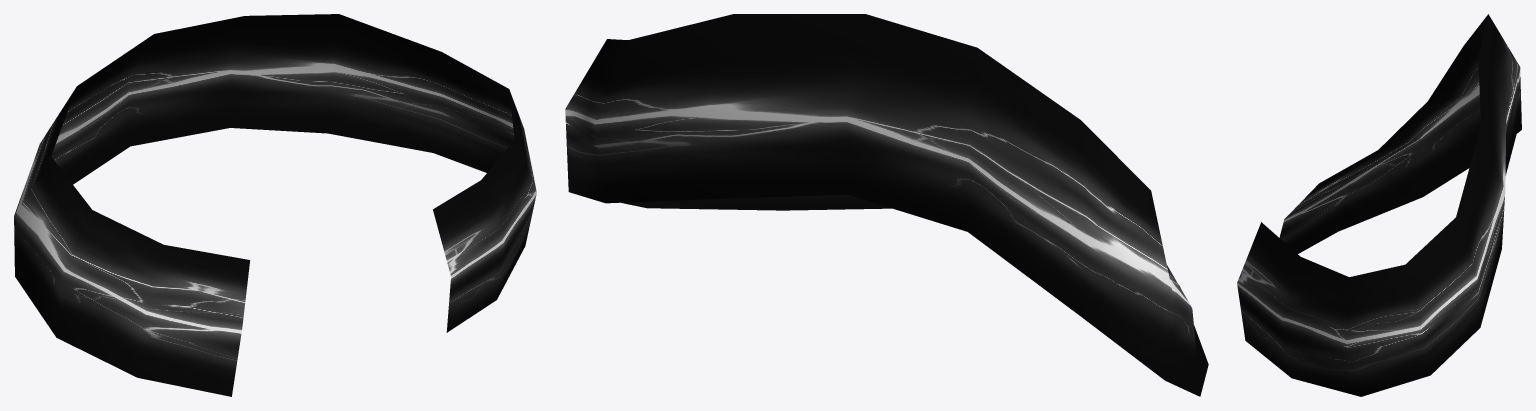
File: VertexPaintedLightningVFXMesh2.fbx
3 views of the same model, side by side, from view 1: azimuth 30°, elevation 25°; view 2: azimuth 150°, elevation 25°; view 3: azimuth 270°, elevation 25° (orthographic). The views are drawn at different scales.
Visible parts, largest first — view 1: VertexPaintedLightningVFXMesh2; view 2: VertexPaintedLightningVFXMesh2; view 3: VertexPaintedLightningVFXMesh2.
Boxes of the visible parts, x1,y1,x2,y2 form: VertexPaintedLightningVFXMesh2: (14,14,536,396); VertexPaintedLightningVFXMesh2: (565,14,1208,396); VertexPaintedLightningVFXMesh2: (1237,14,1521,396).
Bounding box in the file's own units: 75.61 × 41.51 × 40.07.
